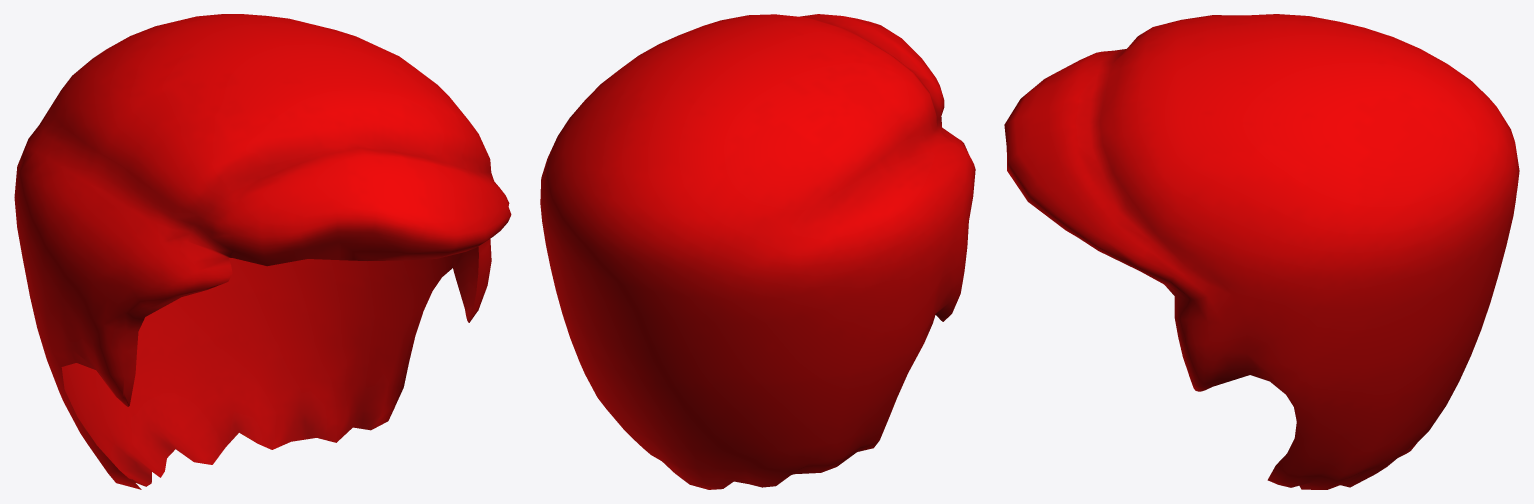
Rendered from HairBack_Proper.obj.
3 views of the same model, side by side, from view 1: azimuth 30°, elevation 25°; view 2: azimuth 150°, elevation 25°; view 3: azimuth 270°, elevation 25° (orthographic). The views are drawn at different scales.
Parts seen in each view (by area): view 1: HairBack_Proper_0; view 2: HairBack_Proper_0; view 3: HairBack_Proper_0.
Part boxes in pixels (box(x1,y1,x2,y2)): HairBack_Proper_0: box(14, 14, 511, 489); HairBack_Proper_0: box(540, 14, 975, 489); HairBack_Proper_0: box(1004, 14, 1519, 489).
Bounding box in the file's own units: 0.2014 × 0.2133 × 0.2313.
1 material, 1 textured.
